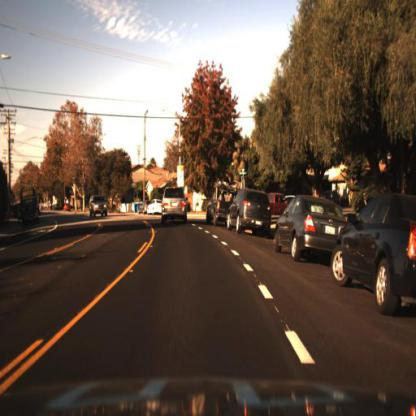car: (332, 191, 416, 320), (275, 193, 358, 263), (228, 187, 273, 236), (162, 184, 191, 233), (91, 192, 108, 221), (20, 201, 41, 224), (147, 200, 164, 216), (61, 202, 73, 216), (137, 204, 149, 217)
truck: (21, 186, 39, 226)
